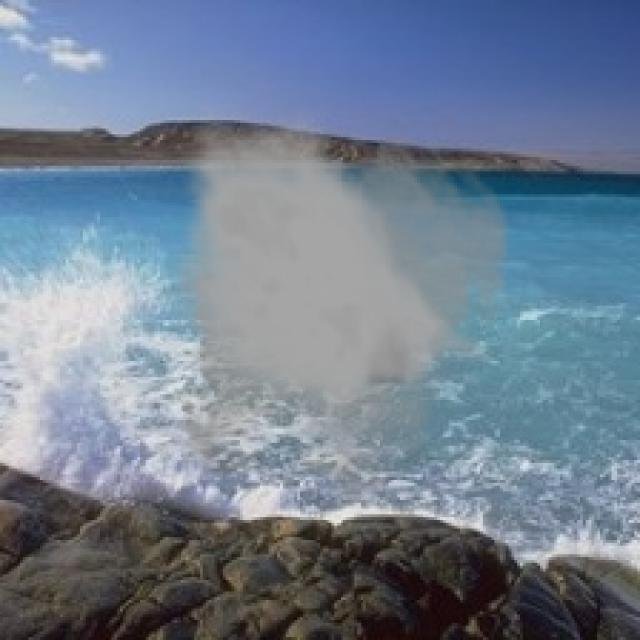Smoke: (168, 102, 514, 508)
